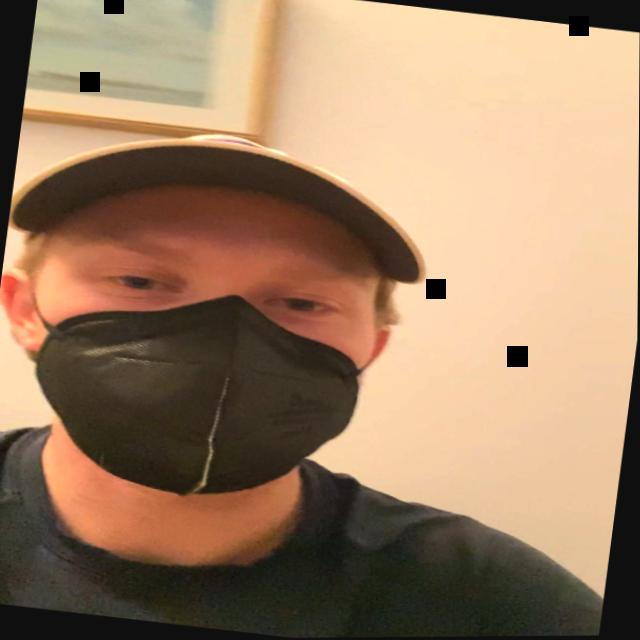Mask: (10, 166, 391, 514)
